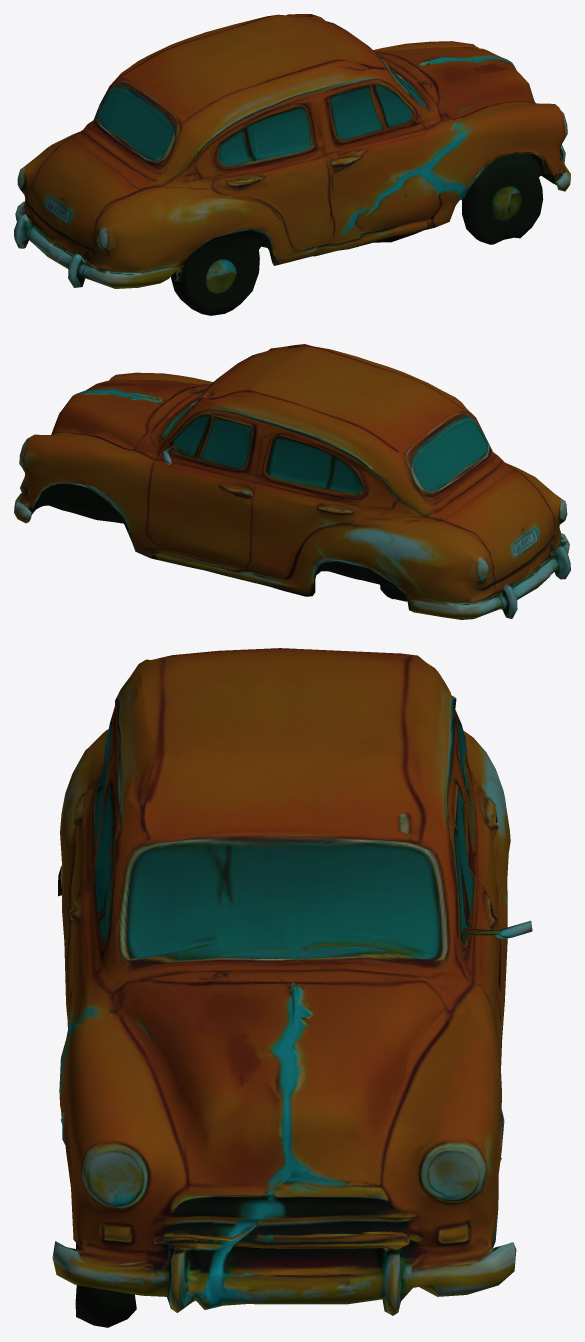
Rendered from vintage+car+3d+model.fbx.
3 views of the same model, one above another, from view 1: azimuth 30°, elevation 25°; view 2: azimuth 150°, elevation 25°; view 3: azimuth 270°, elevation 25° (orthographic). The views are drawn at different scales.
Parts seen in each view (by area): view 1: tripo_node_a8aab056; view 2: tripo_node_a8aab056; view 3: tripo_node_a8aab056.
Part boxes in pixels (box(x1,y1,x2,y2)): tripo_node_a8aab056: box(14, 14, 570, 315); tripo_node_a8aab056: box(14, 344, 570, 619); tripo_node_a8aab056: box(52, 648, 532, 1327).
Bounding box in the file's own units: 0.9997 × 0.4059 × 0.4196.
1 material, 1 textured.
